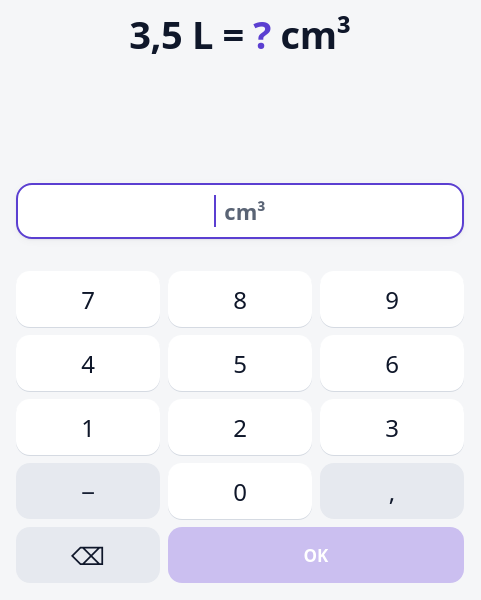
Test case: QuestionView › shows the unit suffix after the number, outside the digit text
This screenshot has width=481, height=600.
Click the button "3": click(392, 427) [320,399,464,455]
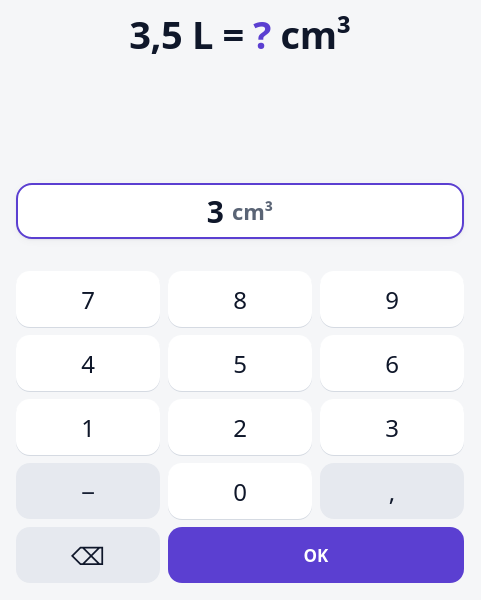
Click the button "5": click(240, 363) [168,335,312,391]
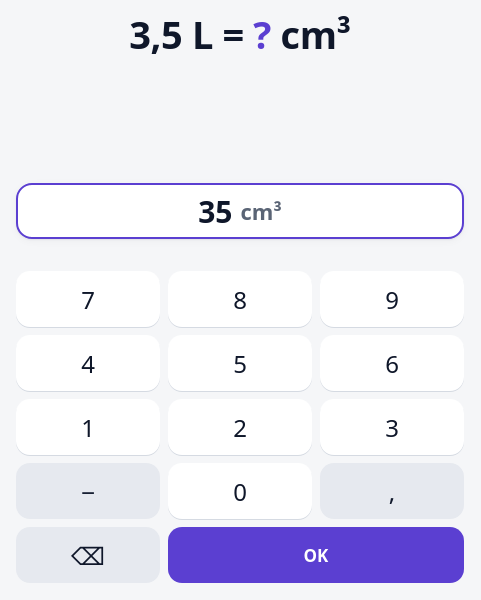
Expected: the text with class "suffix" reads "cm³", [240,196,282,226]
Expected: the element named "Jouw antwoord" reads "35 cm³", [16,183,464,239]
